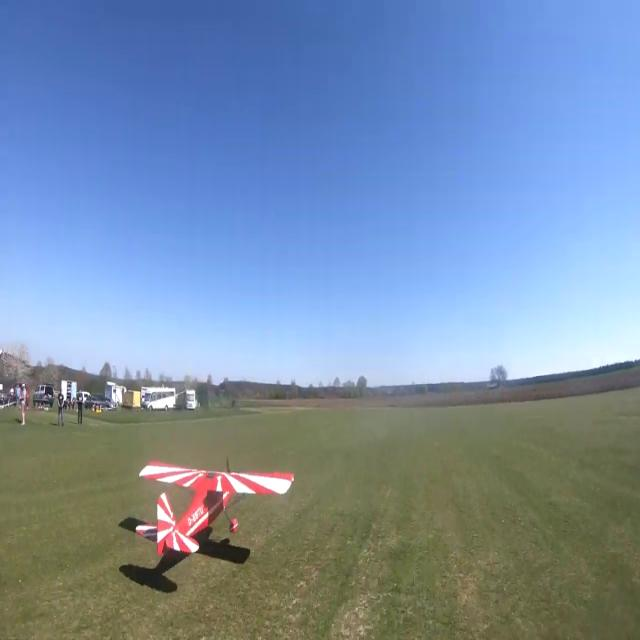iha: (132, 491, 296, 521)
